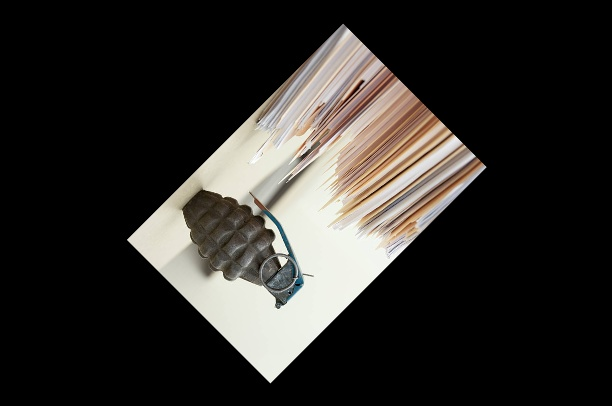e1: (179, 187, 314, 309)
